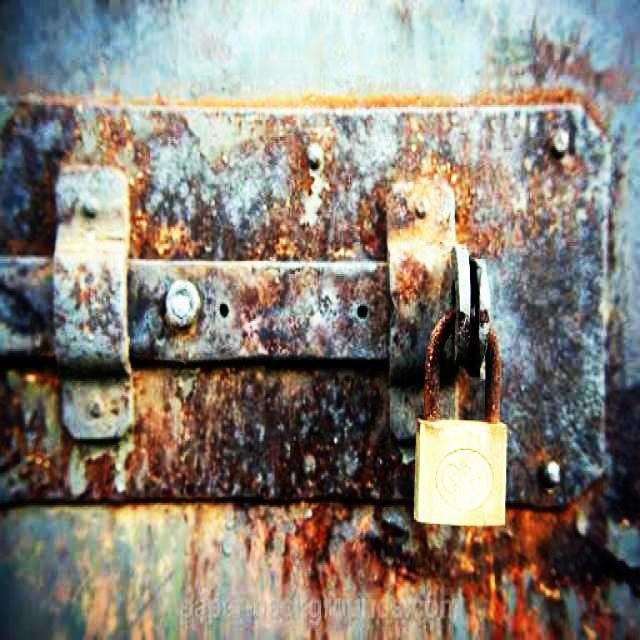Corrosion: (0, 34, 640, 640)
